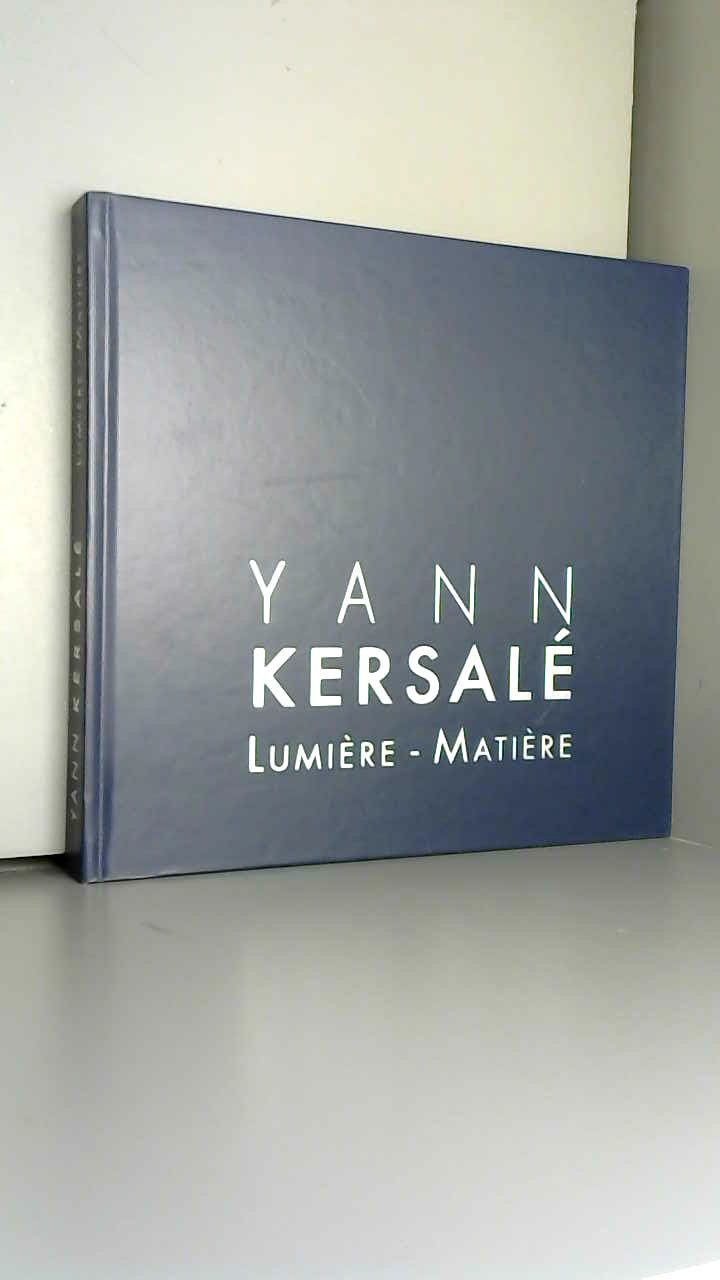book: (40, 160, 719, 903)
